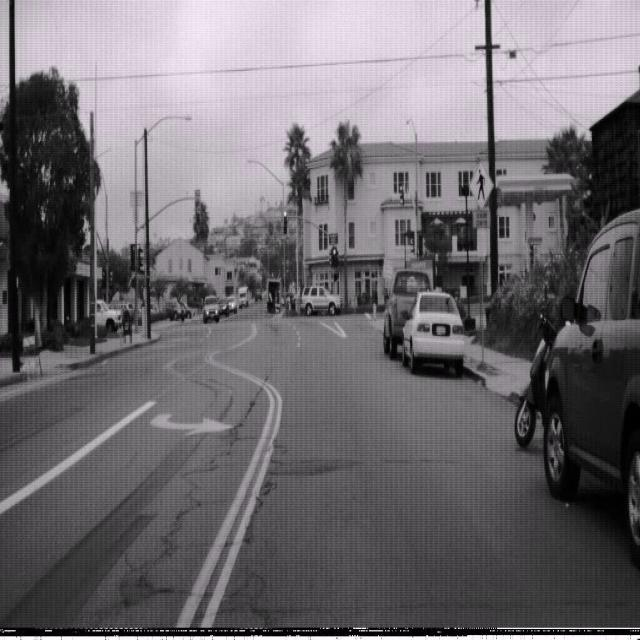pedestrianCrossing: (468, 159, 494, 210)
